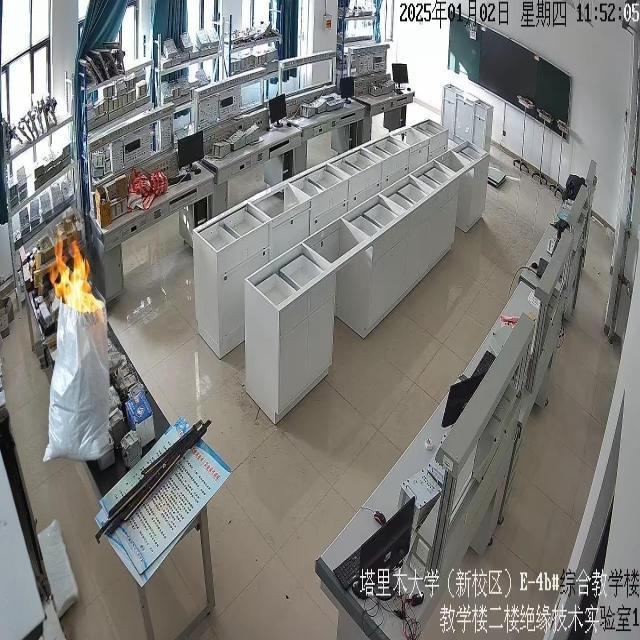smoke: (50, 232, 100, 318)
